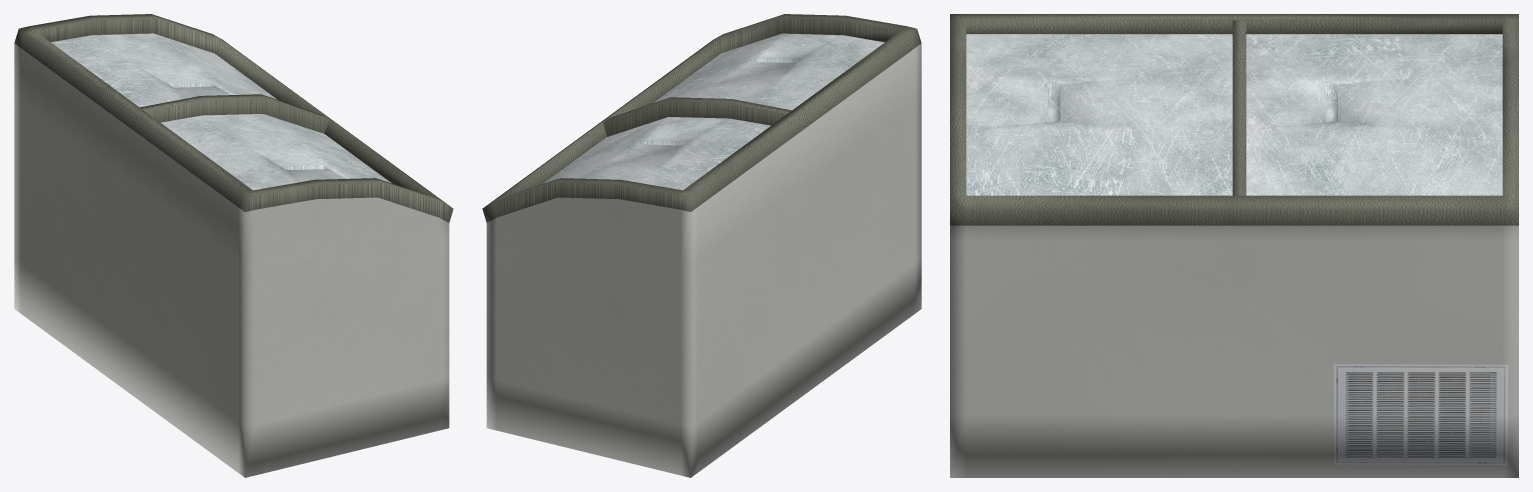
File: Market Freezer.FBX
3 renders of one model, left to right at view 1: azimuth 30°, elevation 25°; view 2: azimuth 150°, elevation 25°; view 3: azimuth 270°, elevation 25°, orthographic. The views are drawn at different scales.
Parts seen in each view (by area): view 1: Freezer, Glass (×2); view 2: Freezer, Glass (×2); view 3: Freezer, Glass (×2).
Boxes of the visible parts, x1,y1,x2,y2 form: Freezer: (14, 14, 453, 477); Glass (×2): (51, 33, 391, 190); Freezer: (482, 14, 921, 477); Glass (×2): (544, 33, 884, 190); Freezer: (950, 14, 1518, 477); Glass (×2): (966, 34, 1502, 195).
Size of the model in its own units: 36.31 by 46.46 by 69.63.
2 materials, 2 textured.
